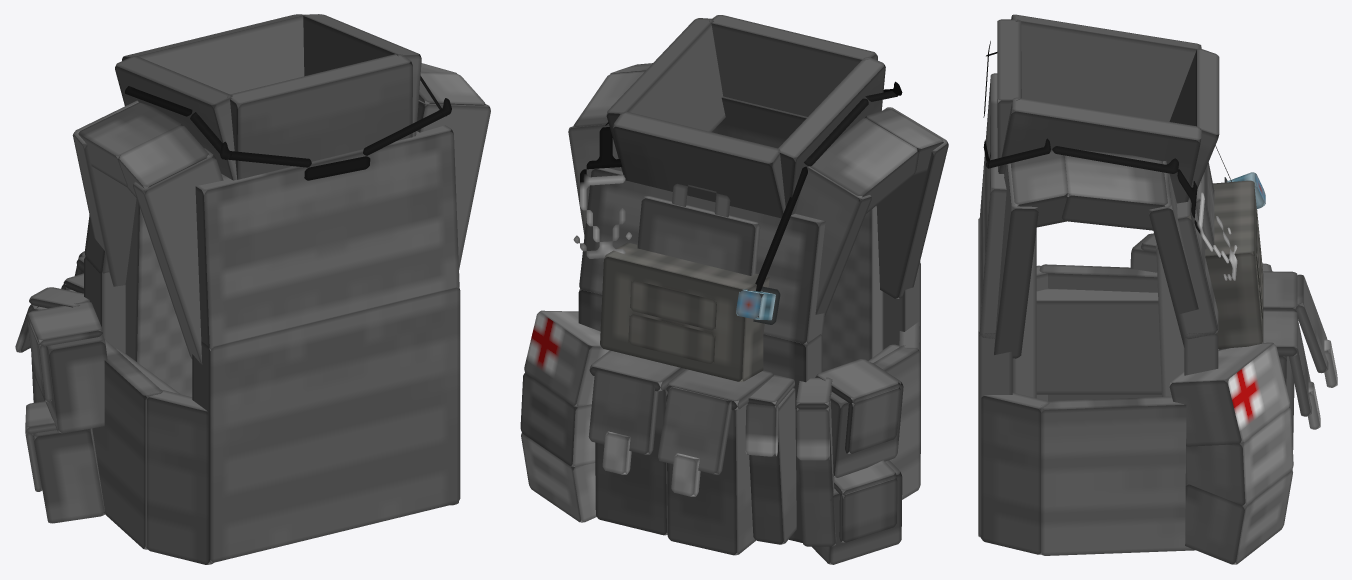
Rendered from civilian_medic.obj.
3 views of the same model, side by side, from view 1: azimuth 30°, elevation 25°; view 2: azimuth 150°, elevation 25°; view 3: azimuth 270°, elevation 25° (orthographic). The views are drawn at different scales.
Visible parts, largest first — view 1: cube; view 2: cube; view 3: cube.
Part boxes in pixels (<box>): cube: <box>15,14,490,564</box>; cube: <box>520,15,948,564</box>; cube: <box>978,14,1337,564</box>.
Size of the model in its own units: 0.7603 by 0.8808 by 0.6546.
